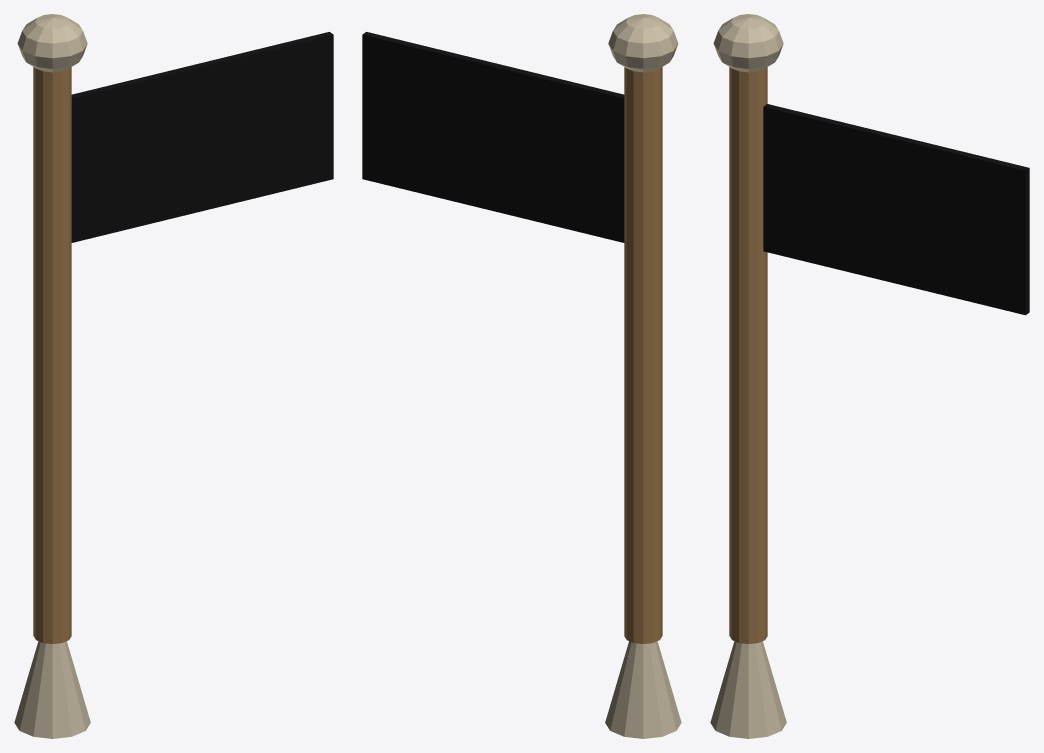
File: CheckpointFlag.fbx
3 renders of one model, left to right at view 1: azimuth 30°, elevation 25°; view 2: azimuth 150°, elevation 25°; view 3: azimuth 330°, elevation 25°, orthographic.
Visible parts, largest first — view 1: Checkpoint_Flag_Rectangle, Checkpoint_Pole, Pole_Bottom_Spike, Pole_Top_Cap; view 2: Checkpoint_Flag_Rectangle, Checkpoint_Pole, Pole_Bottom_Spike, Pole_Top_Cap; view 3: Checkpoint_Flag_Rectangle, Checkpoint_Pole, Pole_Bottom_Spike, Pole_Top_Cap.
Part boxes in pixels (bbox=[...]): Checkpoint_Flag_Rectangle: bbox=[71, 32, 333, 242]; Checkpoint_Pole: bbox=[33, 67, 71, 643]; Pole_Bottom_Spike: bbox=[14, 641, 90, 738]; Pole_Top_Cap: bbox=[17, 14, 87, 72]; Checkpoint_Flag_Rectangle: bbox=[362, 32, 624, 242]; Checkpoint_Pole: bbox=[624, 67, 662, 643]; Pole_Bottom_Spike: bbox=[605, 641, 681, 738]; Pole_Top_Cap: bbox=[608, 14, 678, 72]; Checkpoint_Flag_Rectangle: bbox=[763, 104, 1029, 315]; Checkpoint_Pole: bbox=[729, 67, 767, 643]; Pole_Bottom_Spike: bbox=[710, 641, 786, 738]; Pole_Top_Cap: bbox=[713, 14, 783, 72].
Size of the model in its own units: 113 by 244 by 24.
